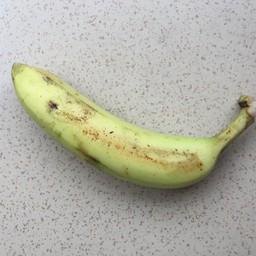Good_banana: (7, 55, 233, 201)
